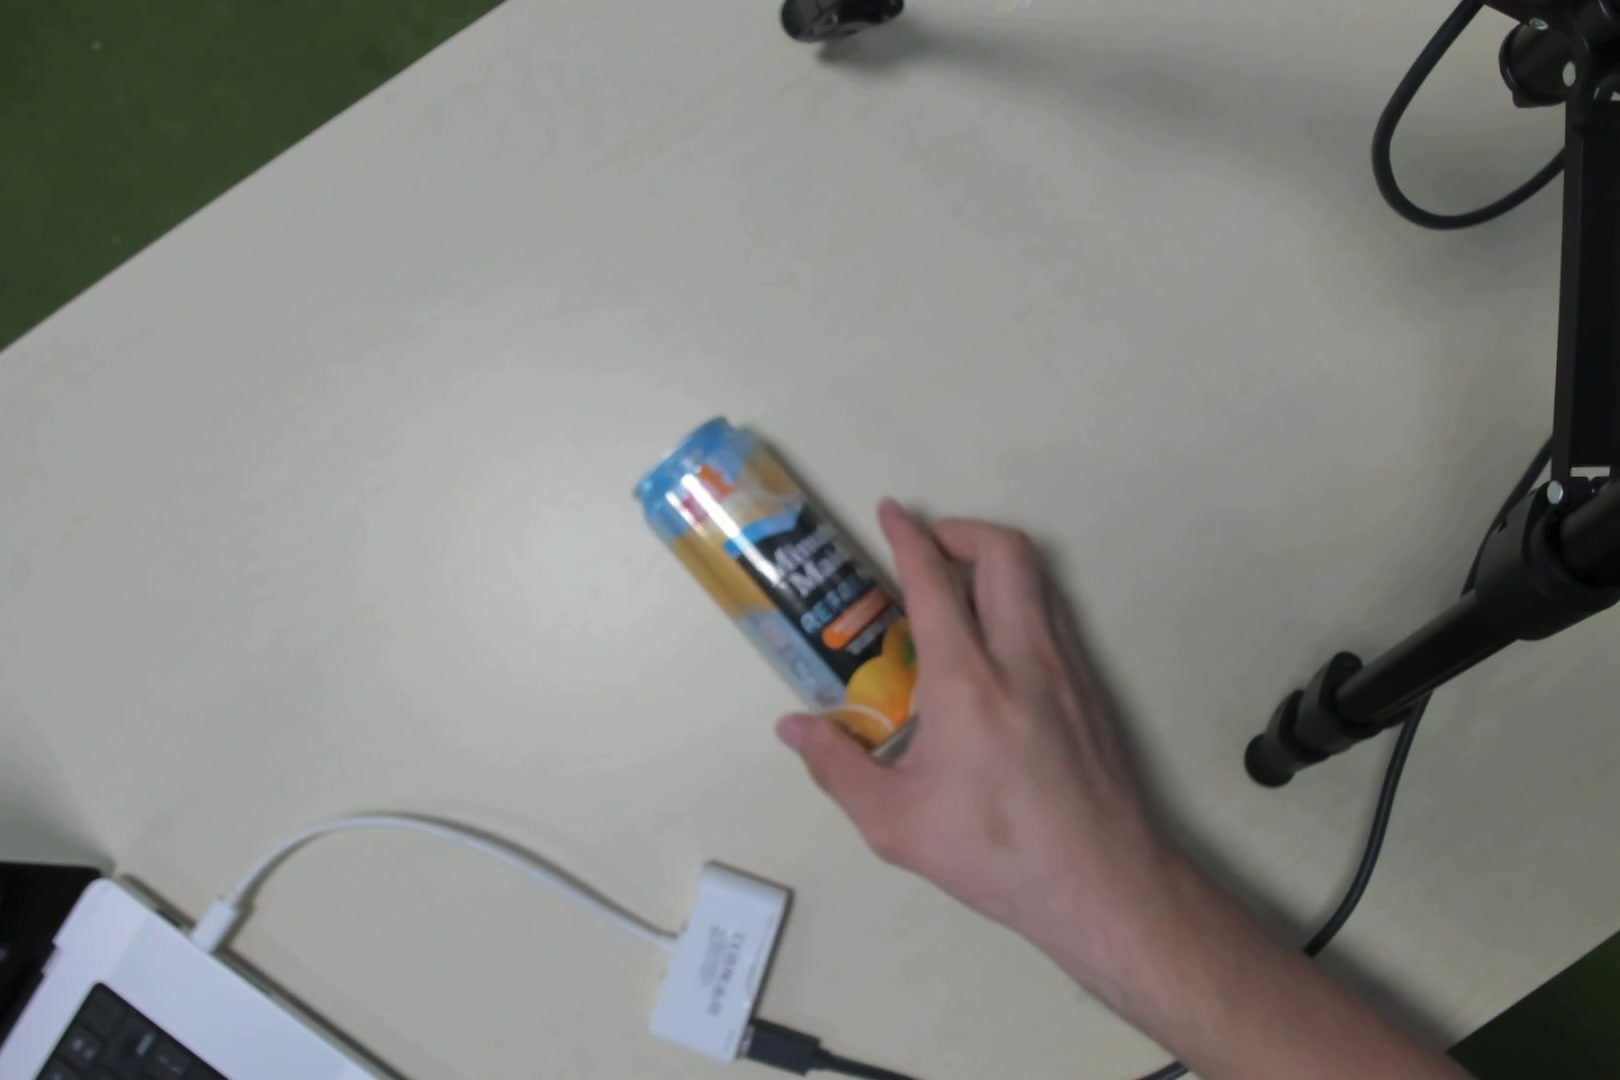SoftDrinks_200-299g_Halal_Healthy: (656, 440, 927, 744)
